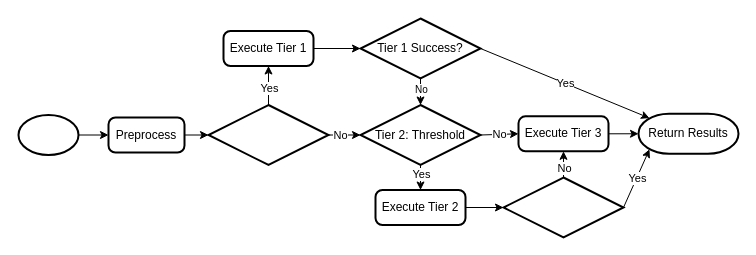
Image size: 756x255. Some labels were removed from this diagram. The centre of each missing label's shape, as x and y in pixels:
"Start" belongs at (48,135).
"Tier 1: Threshold" belongs at (268,135).
"Tier 2 Success?" belongs at (563,207).
